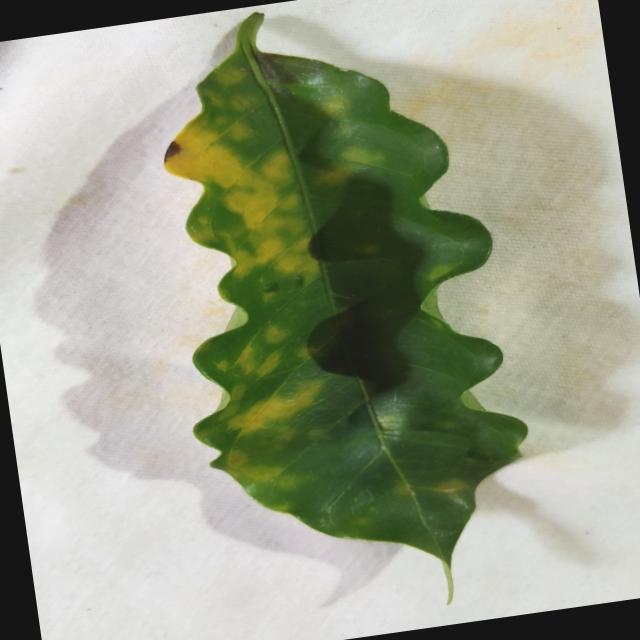KaratDaunKopi: (165, 13, 526, 594), (434, 480, 468, 493), (228, 123, 252, 141), (227, 451, 246, 469)
